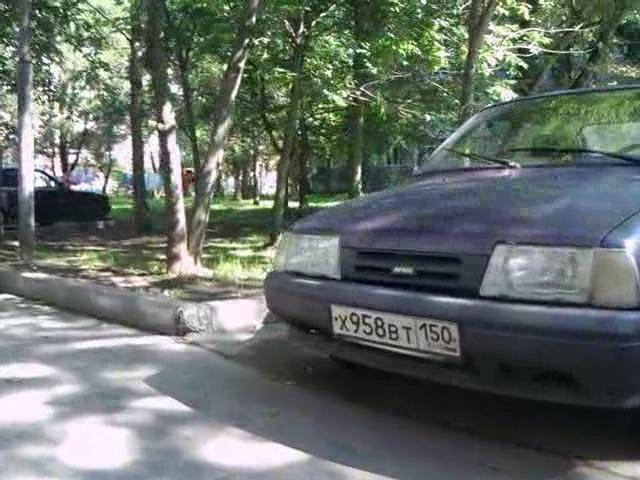license-plateSW: (332, 302, 463, 356)
